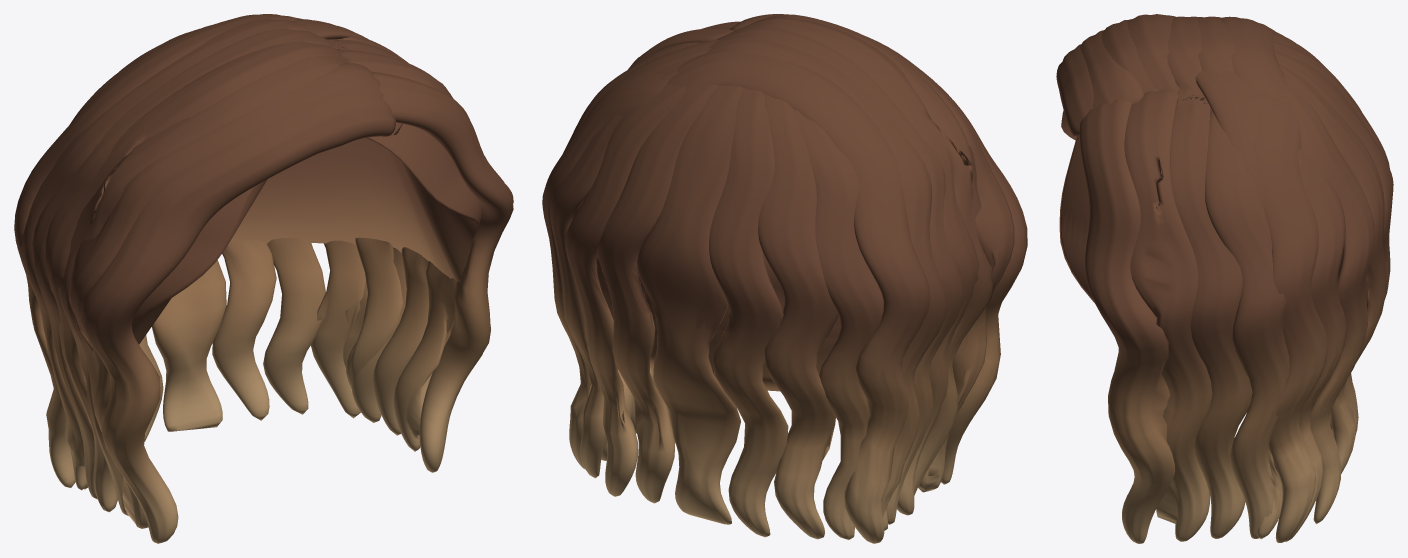
File: Ombre-6e13555985ca253-hair.glb
3 renders of one model, left to right at view 1: azimuth 30°, elevation 25°; view 2: azimuth 150°, elevation 25°; view 3: azimuth 270°, elevation 25°, orthographic. The views are drawn at different scales.
Visible parts, largest first — view 1: 226 hair / Hair / sculpted 0.002, 226 hair / Hair / sculpted 1.004, 226 hair / Hair / sculpted 2.002, 226 hair / Hair / sculpted 1.003; view 2: 226 hair / Hair / sculpted 0.002, 226 hair / Hair / sculpted 2.002, 226 hair / Hair / sculpted 1.004, 226 hair / Hair / sculpted 1.003; view 3: 226 hair / Hair / sculpted 1.004, 226 hair / Hair / sculpted 2.002, 226 hair / Hair / sculpted 0.002, 226 hair / Hair / sculpted 1.003.
Part boxes in pixels (left/top/right/bottom): 226 hair / Hair / sculpted 0.002: left=14, top=14, right=428, bottom=543; 226 hair / Hair / sculpted 1.004: left=32, top=20, right=513, bottom=528; 226 hair / Hair / sculpted 2.002: left=21, top=18, right=485, bottom=515; 226 hair / Hair / sculpted 1.003: left=131, top=123, right=483, bottom=344; 226 hair / Hair / sculpted 0.002: left=565, top=17, right=1027, bottom=543; 226 hair / Hair / sculpted 2.002: left=544, top=14, right=994, bottom=539; 226 hair / Hair / sculpted 1.004: left=542, top=14, right=1014, bottom=539; 226 hair / Hair / sculpted 1.003: left=572, top=199, right=840, bottom=391; 226 hair / Hair / sculpted 1.004: left=1079, top=16, right=1386, bottom=543; 226 hair / Hair / sculpted 2.002: left=1101, top=16, right=1393, bottom=542; 226 hair / Hair / sculpted 0.002: left=1056, top=14, right=1389, bottom=538; 226 hair / Hair / sculpted 1.003: left=1059, top=111, right=1368, bottom=304.
Bounding box in the file's own units: 1.11 × 1.11 × 0.768.
Materials: 4 (4 with a texture image).
